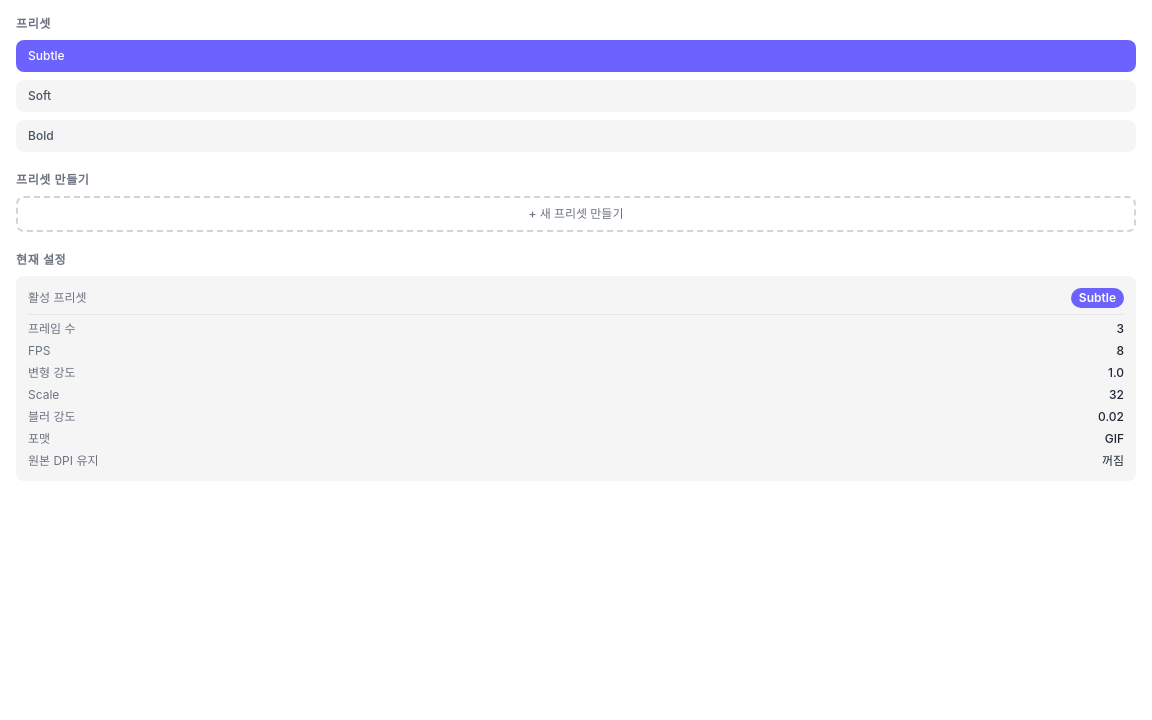
Test case: Sidebar › "+ 새 프리셋 만들기" 클릭 시 입력 폼이 나타난다
The width and height of the screenshot is (1152, 720).
Click the button "+ 새 프리셋 만들기".
click(576, 214)  # box [16,196,1136,232]
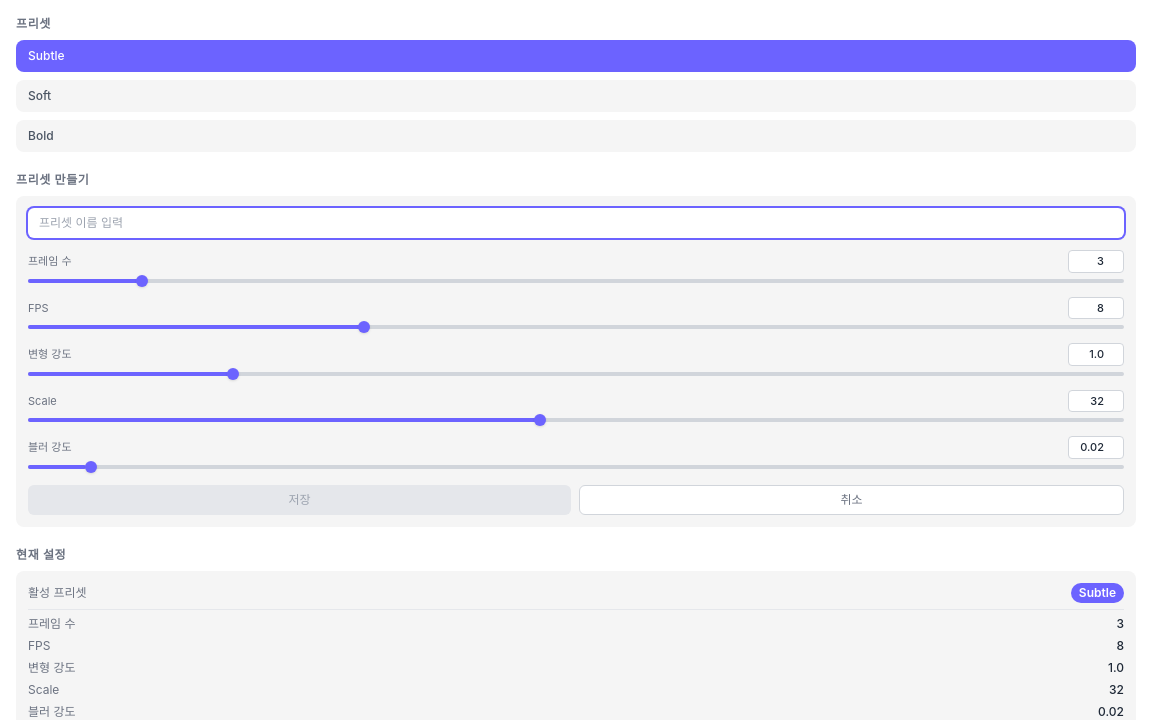
Expected: the field with placeholder "프리셋 이름 입력" is shown, [28,208,1124,238]
Expected: the button "저장" is shown, [28,484,571,514]
Expected: the button "취소" is shown, [579,484,1124,514]
